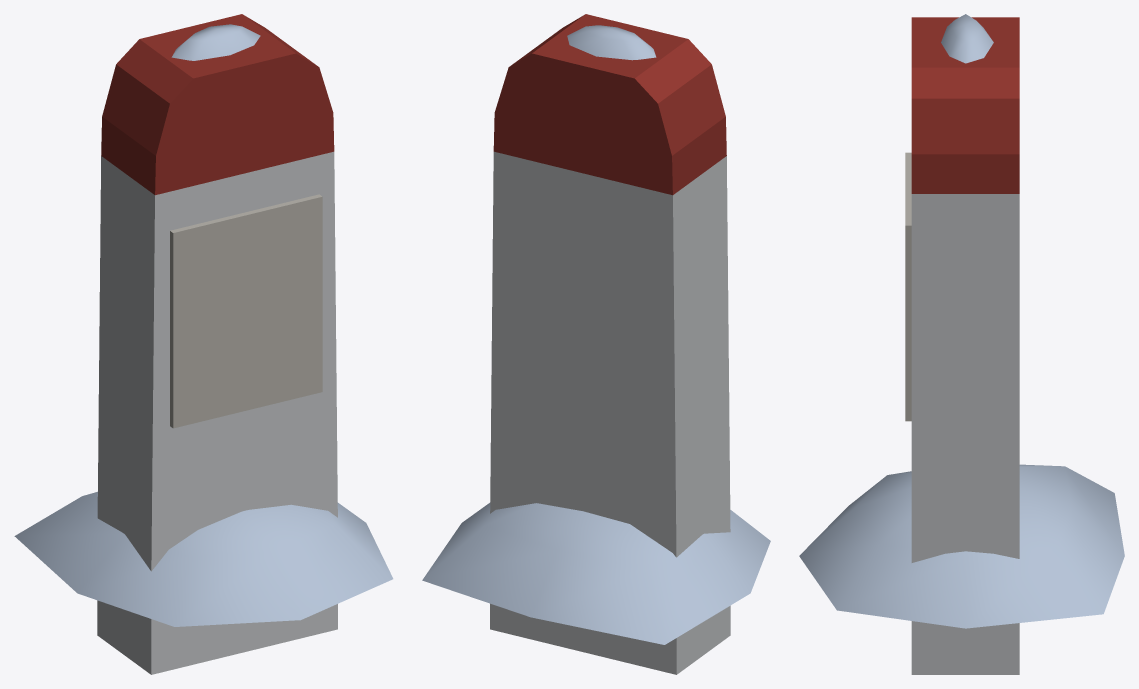
Rendered from km_post.glb.
3 views of the same model, side by side, from view 1: azimuth 30°, elevation 25°; view 2: azimuth 150°, elevation 25°; view 3: azimuth 270°, elevation 25° (orthographic).
Visible parts, largest first — view 1: Prop, Panel; view 2: Prop; view 3: Prop, Panel.
Part boxes in pixels (x1,y1,x2,y2): Prop: [14, 14, 393, 674]; Panel: [170, 194, 322, 428]; Prop: [422, 14, 770, 674]; Prop: [799, 14, 1124, 674]; Panel: [905, 152, 911, 421].
Size of the model in its own units: 0.619 by 1.24 by 0.6038.
